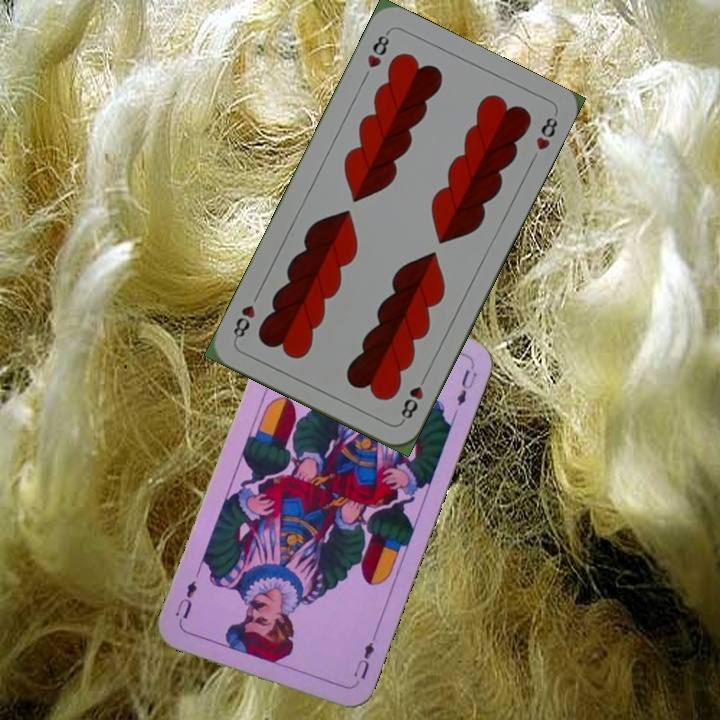EU: (349, 632, 379, 688)
H8: (397, 370, 430, 425), (363, 27, 392, 71)
